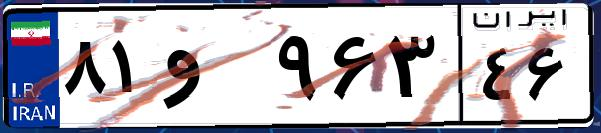1: (110, 28, 158, 98)
3: (385, 28, 445, 110)
4: (475, 38, 525, 113)
6: (330, 28, 385, 110), (525, 38, 570, 115)
8: (57, 26, 110, 100)
9: (270, 28, 330, 110)
و: (158, 20, 270, 120)
